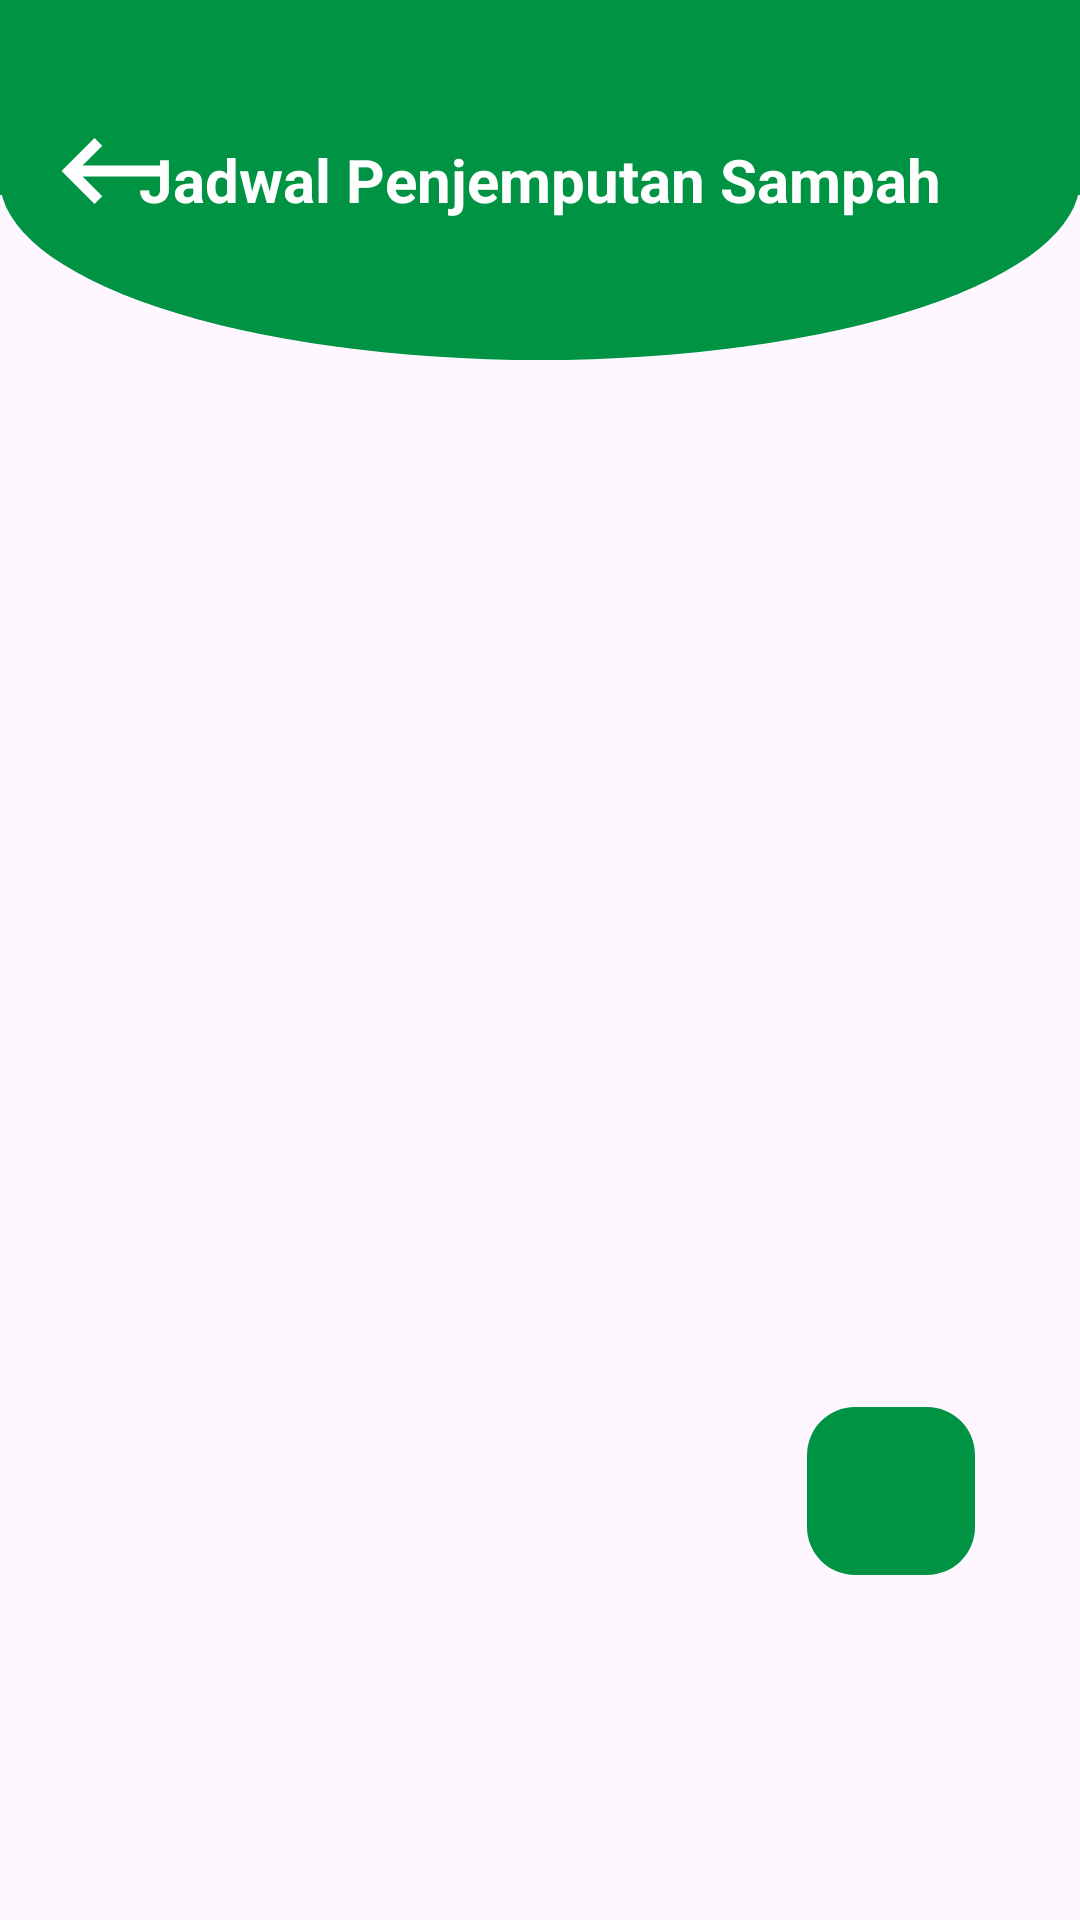

Icon click points for this 1080x1920 phone screenshot, format [x,y]:
keyboard backspace: [115,171]
